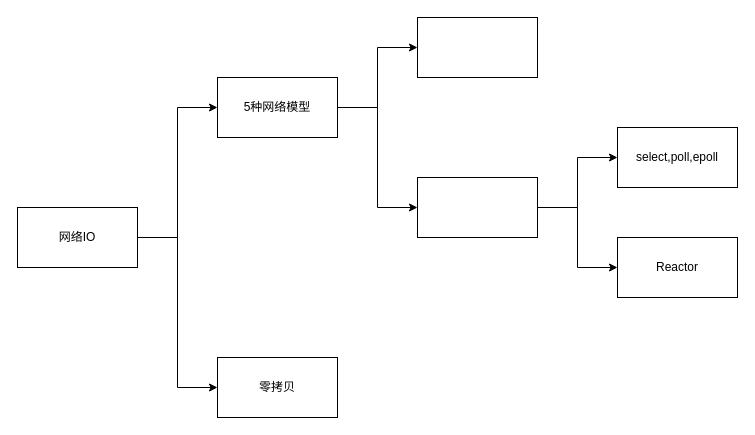
The diagram is 755 pixels wide and 435 high, and some of its shapes have lost their labels. The shapes that lost their labels are listed below. From the top down, each one's centre as x and y in pixels, then its label:
At point 477,47: "（非）阻塞IO".
At point 477,207: "多路复用IO".
